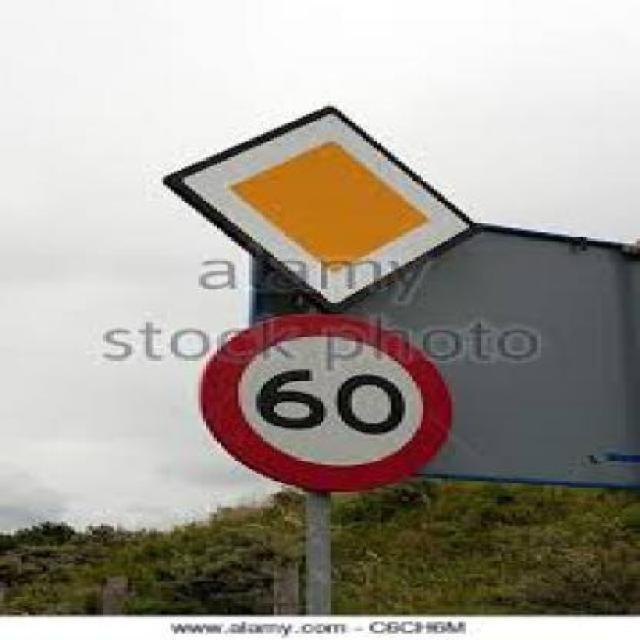forb_speed_over_60: (210, 314, 448, 492)
